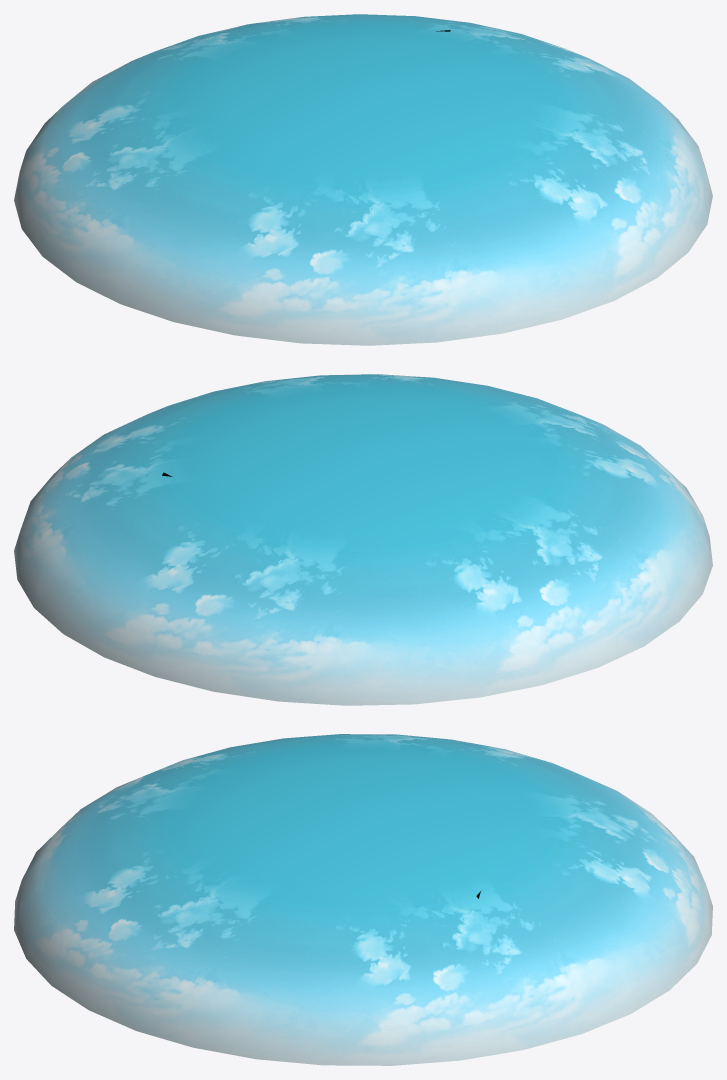
File: stage_sd05c.glb
The picture shows the model from 3 angles, top to bottom: view 1: azimuth 30°, elevation 25°; view 2: azimuth 150°, elevation 25°; view 3: azimuth 270°, elevation 25°; orthographic projection.
Visible parts, largest first — view 1: sd05ccloud01_a; view 2: sd05ccloud01_a; view 3: sd05ccloud01_a.
Part boxes in pixels (left/top/right/bottom): sd05ccloud01_a: left=14, top=14, right=712, bottom=345; sd05ccloud01_a: left=14, top=374, right=712, bottom=705; sd05ccloud01_a: left=14, top=734, right=712, bottom=1065.
Size of the model in its own units: 670 by 156 by 670.
Materials: 47 (47 with a texture image).
